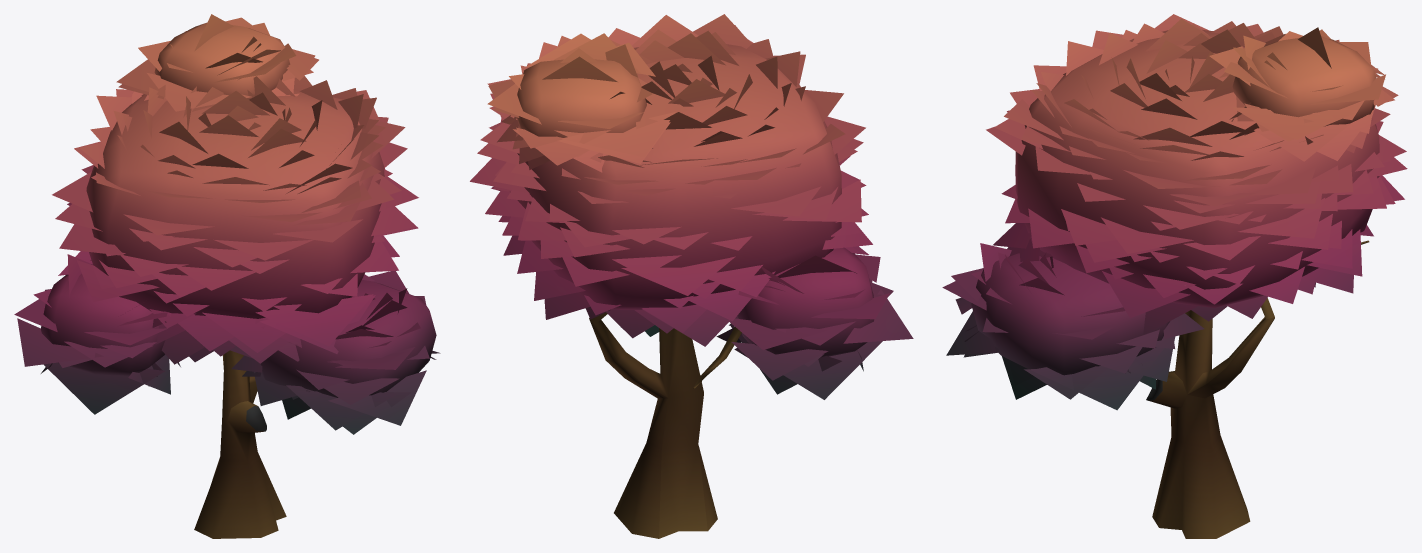
File: Tree_5K.fbx
The picture shows the model from 3 angles, left to right: view 1: azimuth 30°, elevation 25°; view 2: azimuth 150°, elevation 25°; view 3: azimuth 270°, elevation 25°; orthographic projection. The views are drawn at different scales.
Parts seen in each view (by area): view 1: Tree_5K; view 2: Tree_5K; view 3: Tree_5K.
Part boxes in pixels (left/top/right/bottom): Tree_5K: left=14, top=14, right=440, bottom=538; Tree_5K: left=470, top=14, right=913, bottom=538; Tree_5K: left=942, top=14, right=1407, bottom=538.
Size of the model in its own units: 545 by 630 by 528.
1 material, 1 textured.
